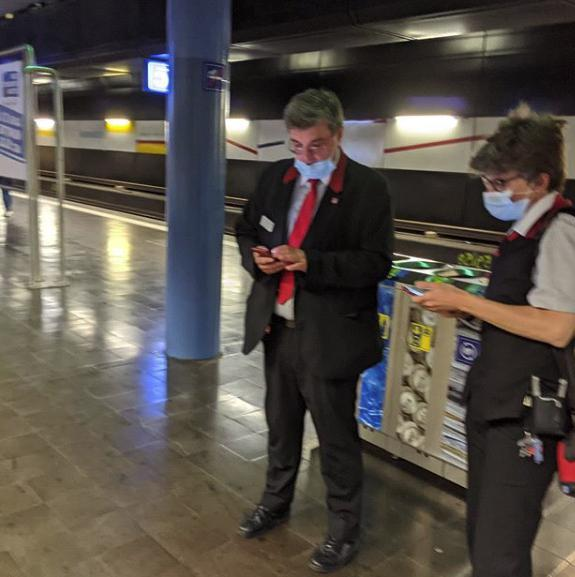mask_weared_incorrect: (286, 124, 335, 183)
with_mask: (481, 171, 529, 225)
